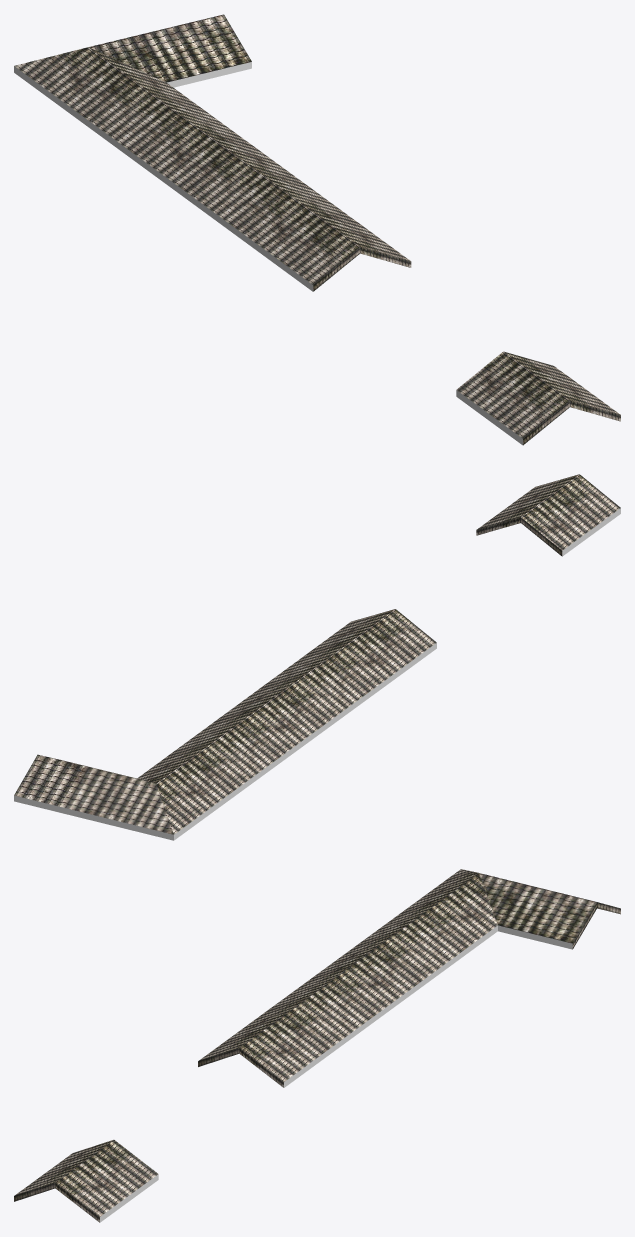
The picture shows the model from 3 angles, top to bottom: view 1: azimuth 30°, elevation 25°; view 2: azimuth 150°, elevation 25°; view 3: azimuth 330°, elevation 25°; orthographic projection. The views are drawn at different scales.
Parts seen in each view (by area): view 1: Object02; view 2: Object02; view 3: Object02.
Boxes of the visible parts, x1=… form: Object02: x1=14, y1=14, x2=620, y2=445; Object02: x1=14, y1=474, x2=620, y2=840; Object02: x1=14, y1=869, x2=620, y2=1222.
Bounding box in the file's own units: 214 × 37.55 × 1029.
